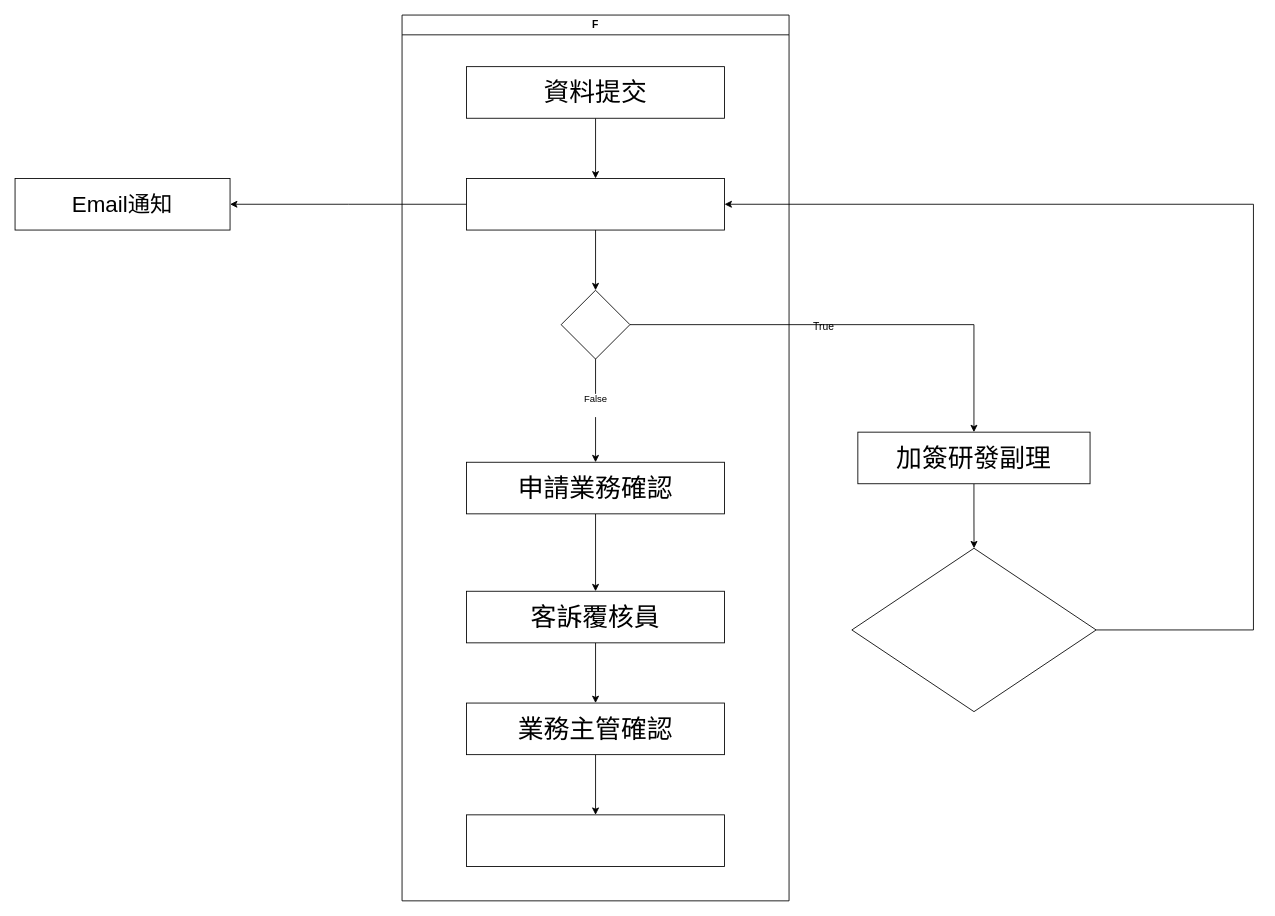
This 1275x916 diagram has some shape labels left out. Each missing label, with the box of its shape:
判斷是否需要設變 (不論結果都要回給客訴處理員): (851, 547, 1096, 712)
加簽: (560, 289, 630, 359)
客訴處理員: (466, 178, 725, 230)
結案: (466, 814, 725, 866)
